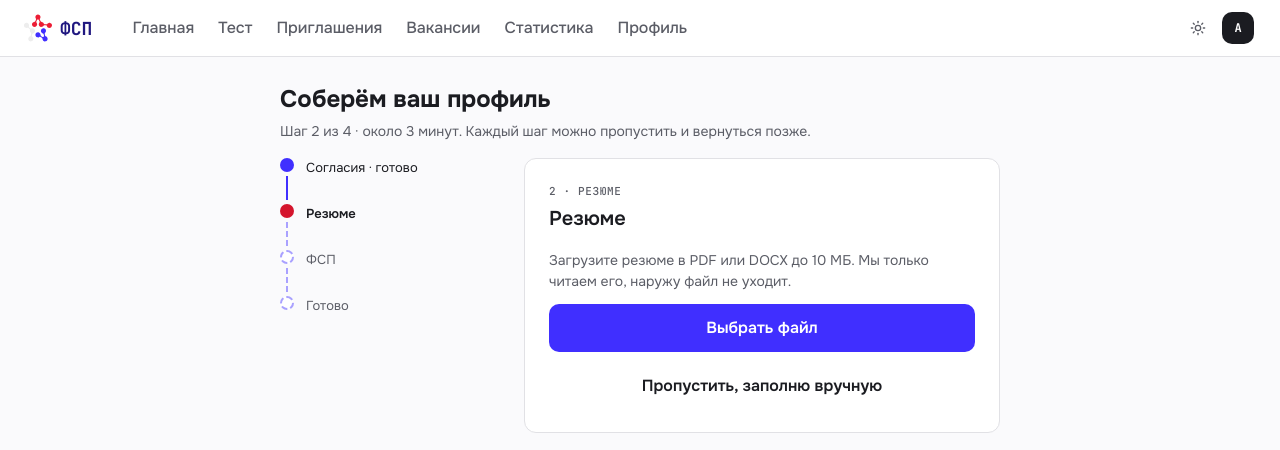
Scenario: шаги можно пропустить до конца
Click the button "Пропустить, заполню вручную" at (762, 386), box [549,364,975,408]
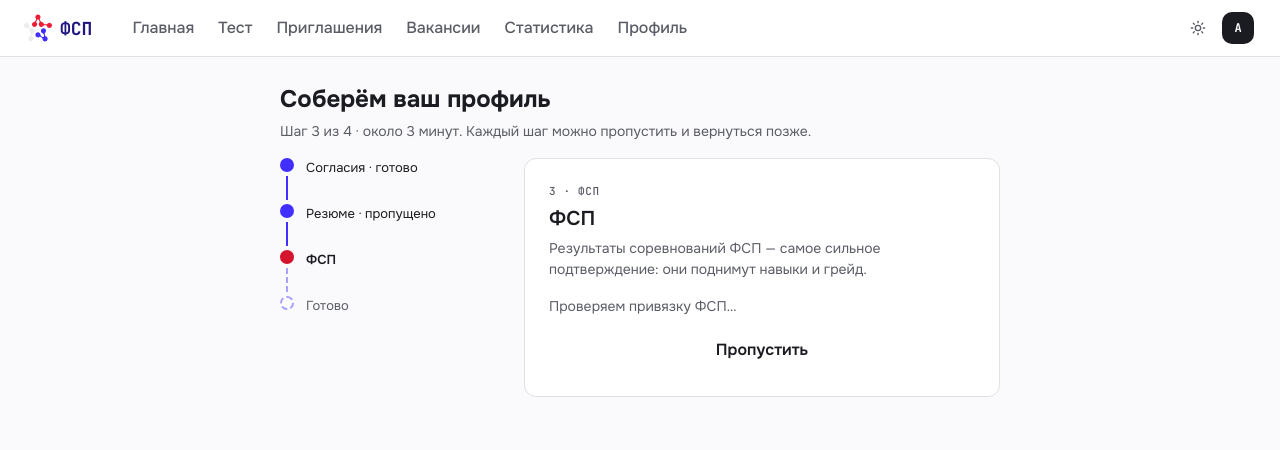
Click the button "Пропустить" at (762, 350), box [549,328,975,372]
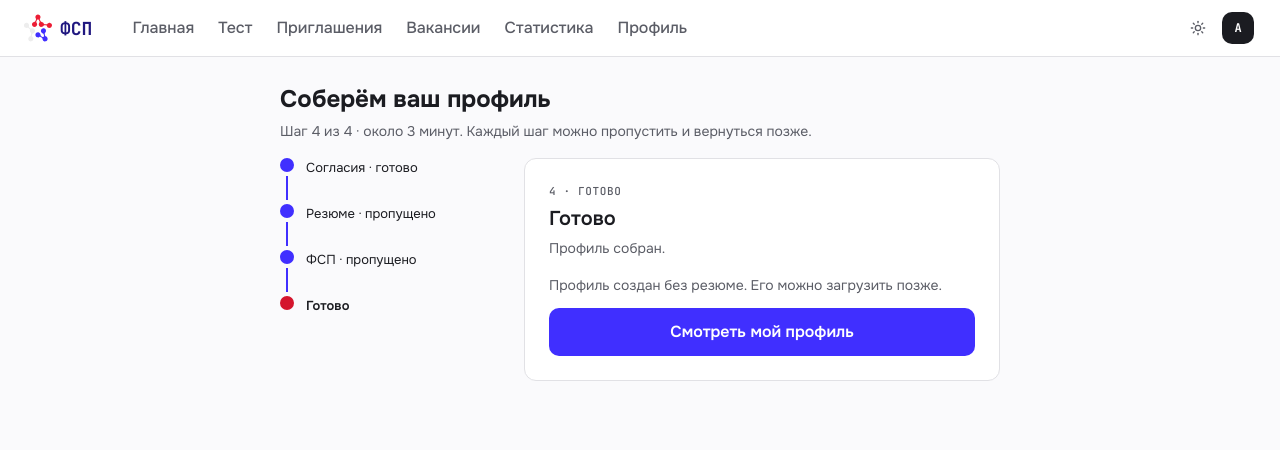
Expected: the text "Резюме · пропущено" is shown 2 times, [306,204,501,222]; [306,250,482,268]
Expected: the link with test id "onboarding-to-profile" is shown, [549,308,975,356]
